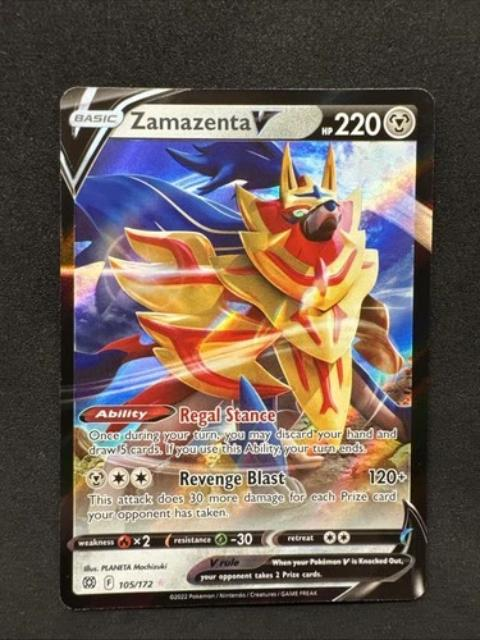Card: (51, 83, 439, 616)
Name: (124, 105, 291, 135)
